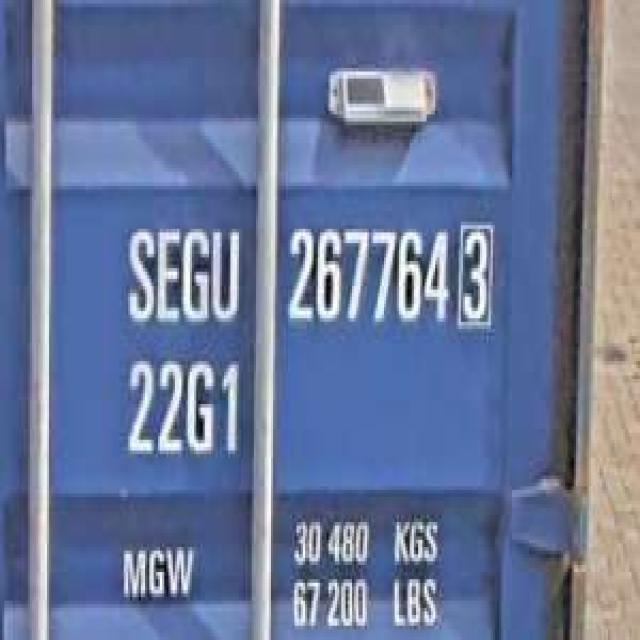dv: (452, 211, 497, 332)
owner: (120, 215, 246, 332)
serial: (282, 215, 450, 343)
size: (117, 350, 245, 472)
